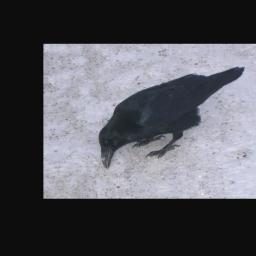Crow: (91, 66, 256, 169)
